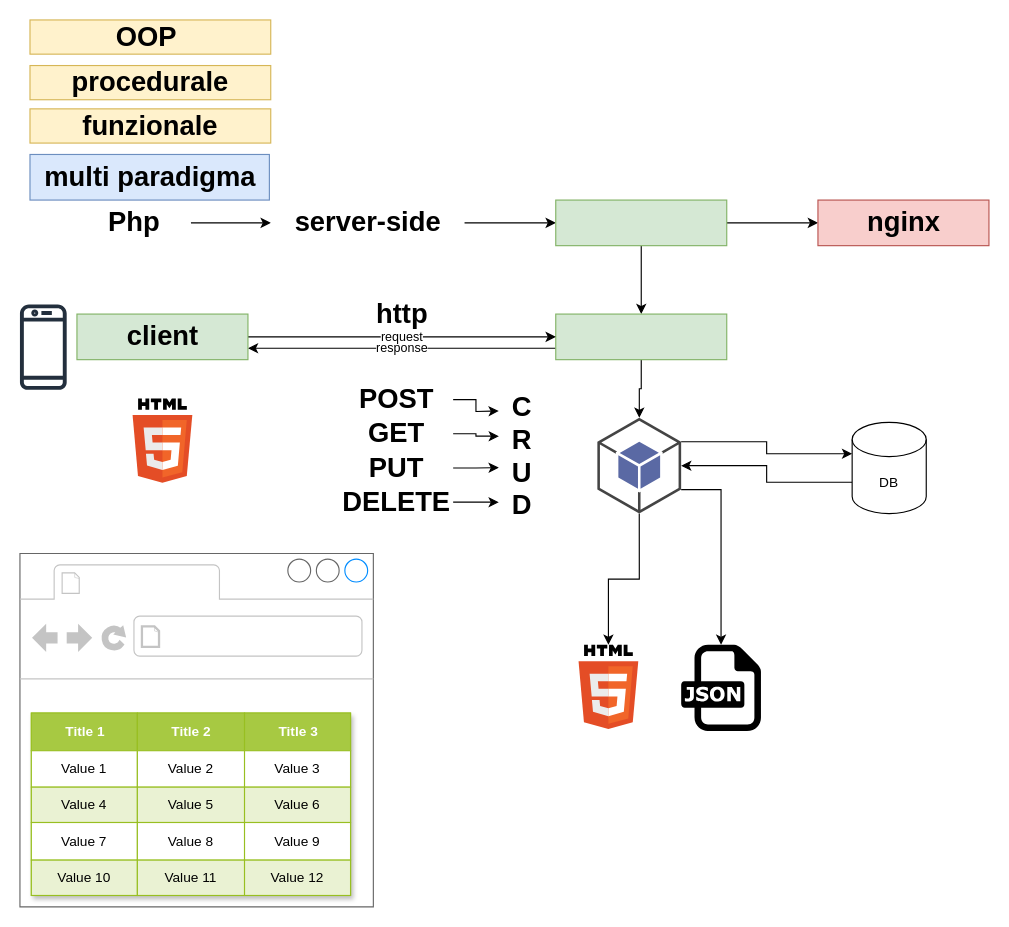
The diagram is 1009 pixels wide and 927 high, and some of its shapes have lost their labels. The shapes that lost their labels are listed below. From the top down, each one's centre as x and y in pixels, then its label:
pixel 641 222: apache
pixel 641 336: web server
pixel 150 581: Page 1
pixel 310 636: https://www.draw.io
